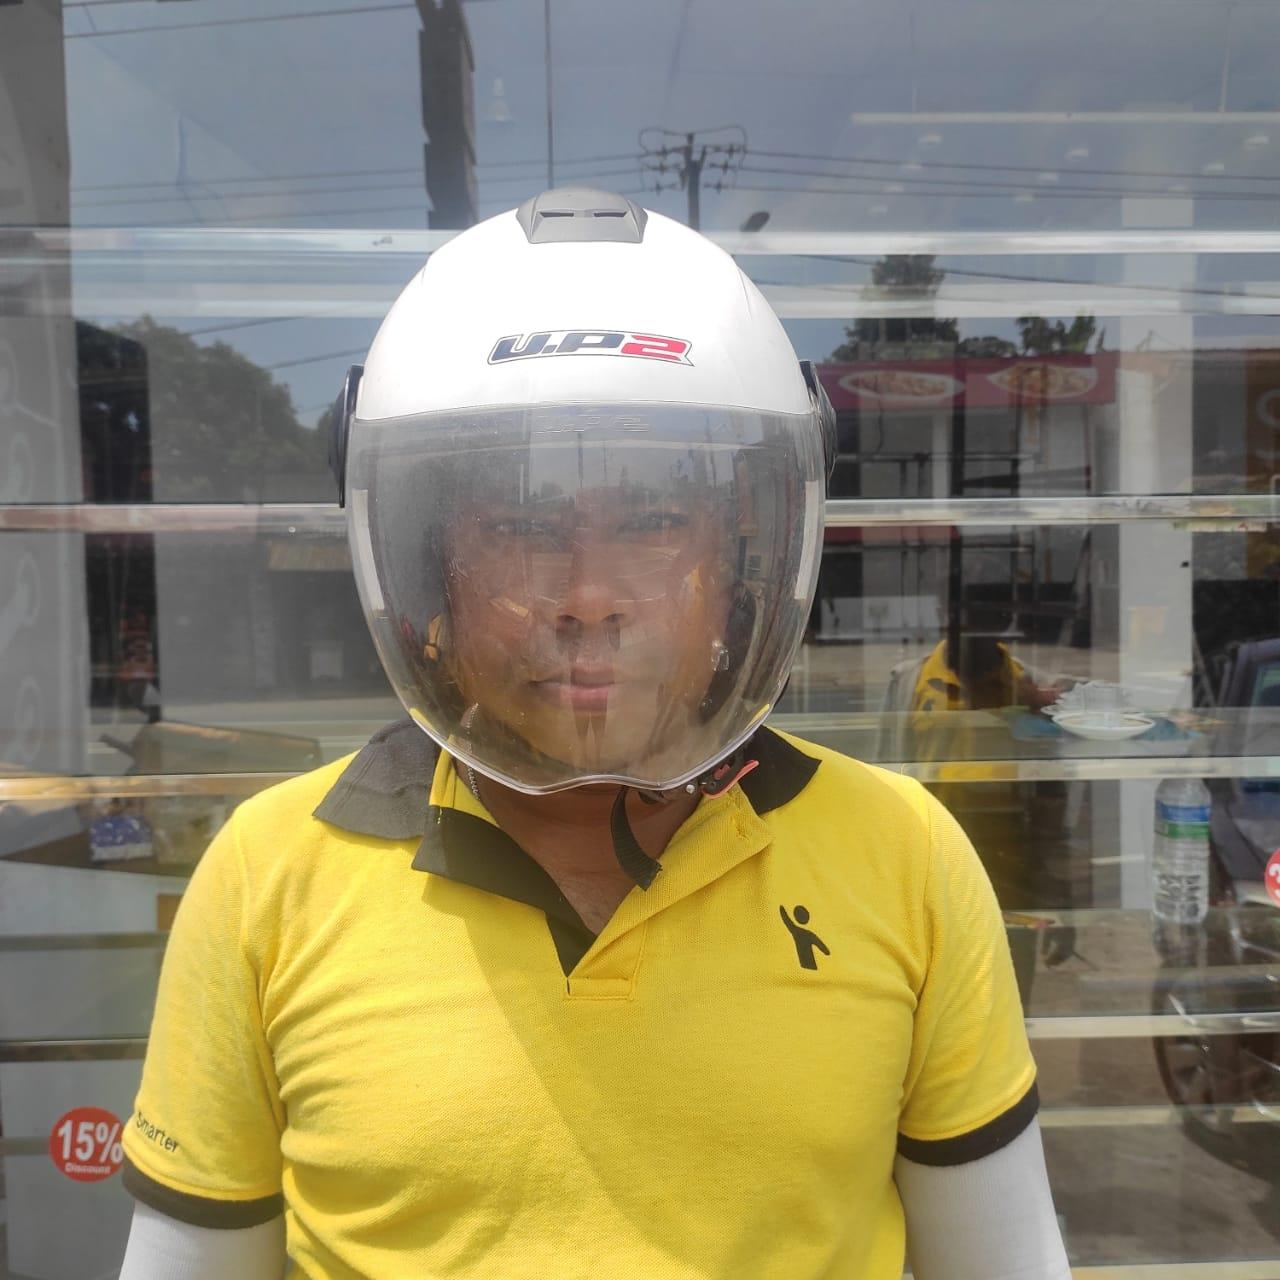helmet: (331, 184, 837, 799)
